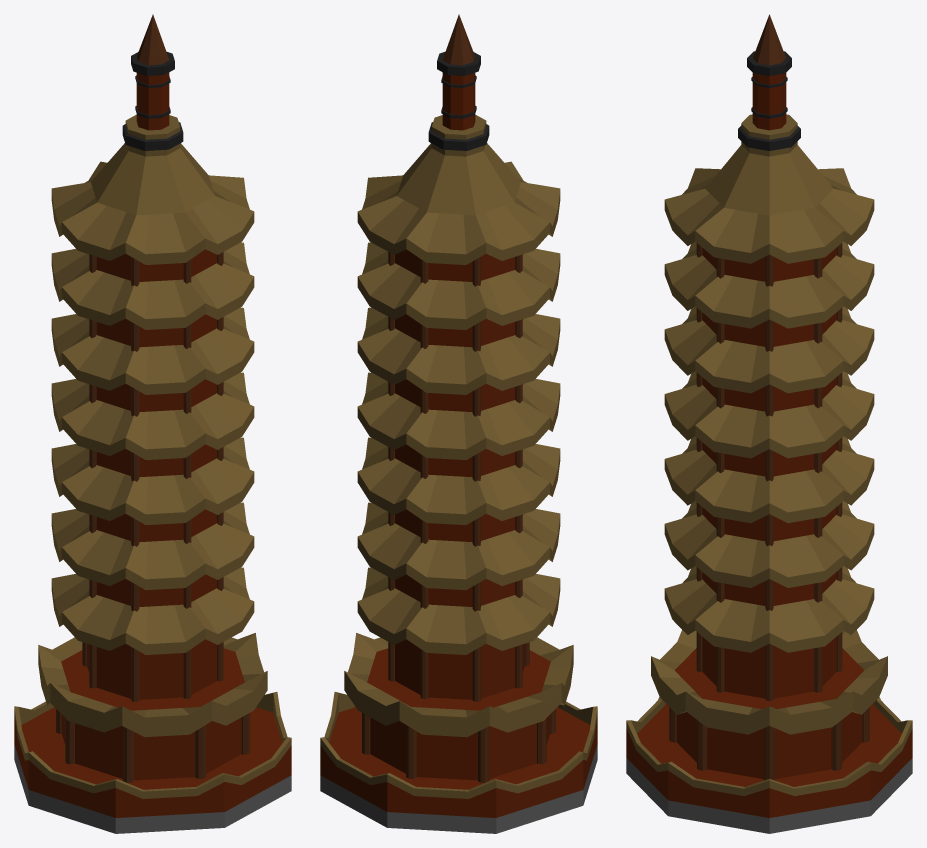
Rendered from obj_pagoda_tower_8h_2.fbx.
The picture shows the model from 3 angles, left to right: view 1: azimuth 30°, elevation 25°; view 2: azimuth 150°, elevation 25°; view 3: azimuth 270°, elevation 25°; orthographic projection.
Visible parts, largest first — view 1: msh_pagoda_tower_8h; view 2: msh_pagoda_tower_8h; view 3: msh_pagoda_tower_8h.
Part boxes in pixels (x1,y1,x2,y2): msh_pagoda_tower_8h: [14, 14, 291, 833]; msh_pagoda_tower_8h: [320, 14, 597, 833]; msh_pagoda_tower_8h: [626, 14, 912, 833].
Bounding box in the file's own units: 24.04 × 70.28 × 24.04.
